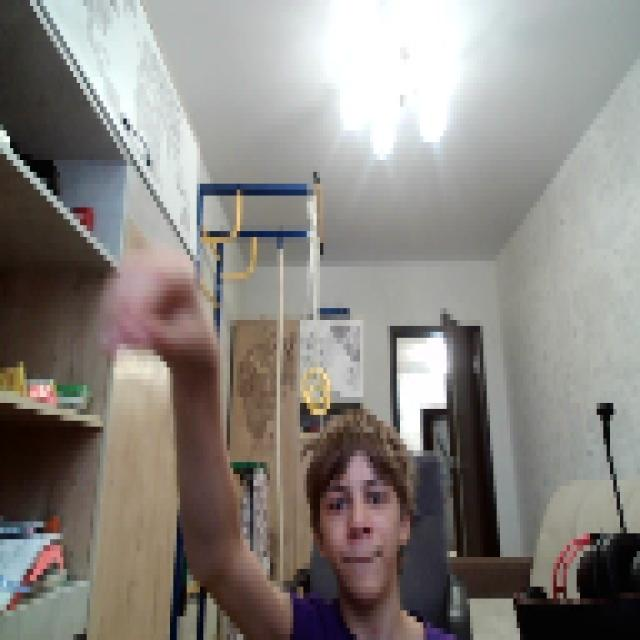left_click: (86, 237, 196, 362)
